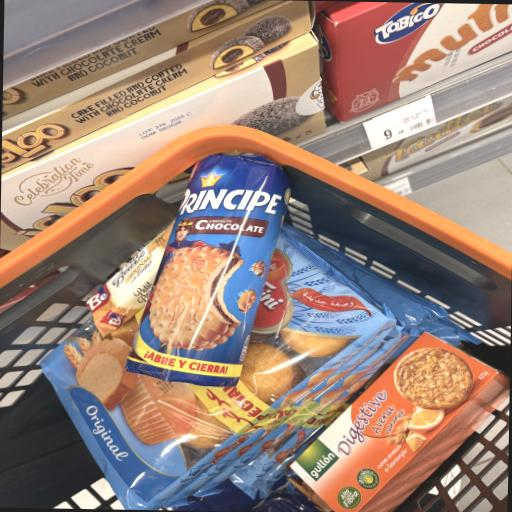prince: (112, 120, 328, 414)
